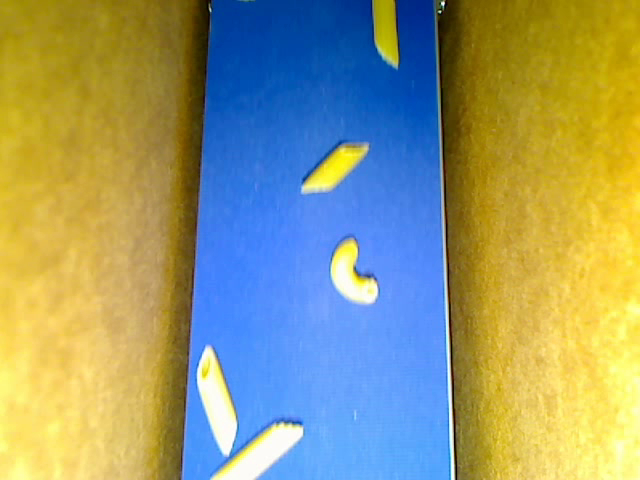elbow: (329, 235, 378, 304)
penne: (209, 420, 304, 479), (196, 343, 237, 455), (300, 143, 369, 194), (372, 1, 399, 69)
